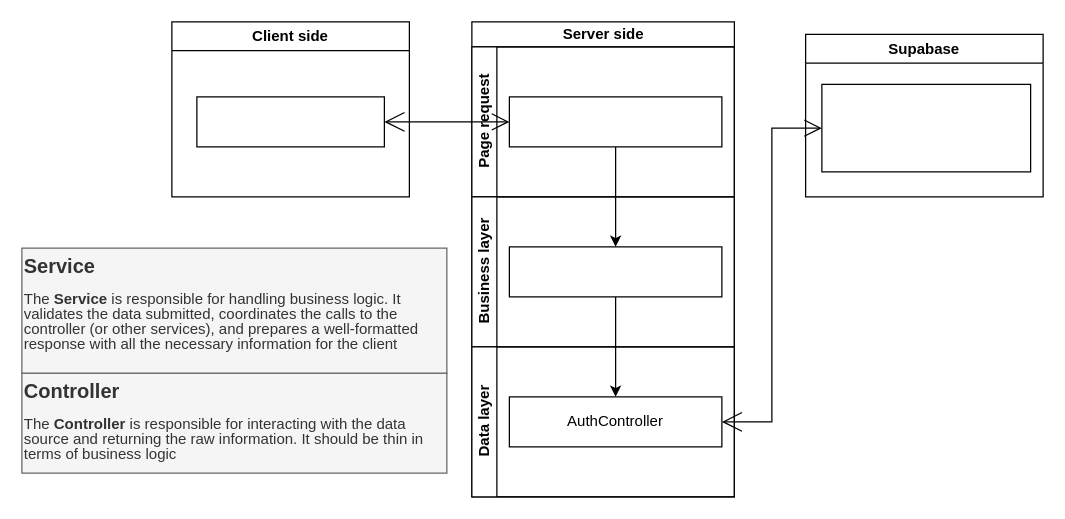
Image size: 1065x519. Some labels were removed from this diagram. The shapes that lost their labels are listed below. From the top down, each one's centre as x and y in pixels, then its label:
the point at 290,121: Page
the point at 615,121: Page server load/actions
the point at 926,127: Supabase DB
the point at 615,271: AuthService
